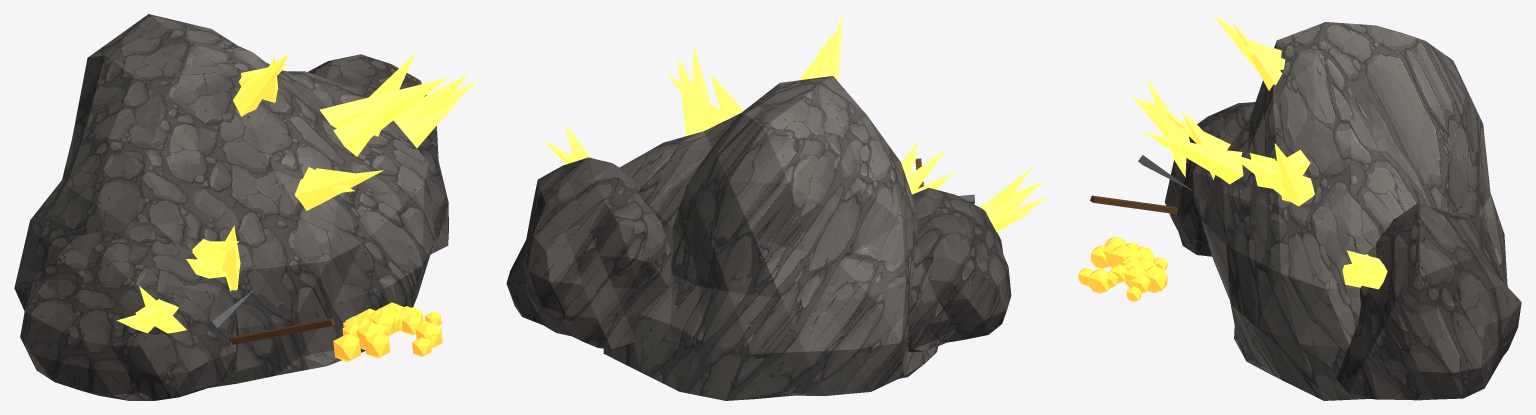
The model's file is resource_gold_vein.glb.
The picture shows the model from 3 angles, left to right: view 1: azimuth 30°, elevation 25°; view 2: azimuth 150°, elevation 25°; view 3: azimuth 270°, elevation 25°; orthographic projection. The views are drawn at different scales.
Parts seen in each view (by area): view 1: Rock, Rock.002, GoldVeins, Rock.001, OrePile, PickHandle; view 2: Rock, Rock.001, Rock.002, GoldVeins; view 3: Rock, Rock.001, GoldVeins, Rock.002, OrePile, PickHandle.
Part boxes in pixels (x1,y1,x2,y2): Rock: [14, 14, 434, 387]; Rock.002: [20, 222, 238, 400]; GoldVeins: [116, 52, 476, 333]; Rock.001: [307, 54, 448, 254]; OrePile: [333, 302, 442, 362]; PickHandle: [230, 318, 335, 344]; Rock: [603, 76, 938, 400]; Rock.001: [506, 157, 671, 349]; Rock.002: [908, 188, 1011, 352]; GoldVeins: [544, 15, 1048, 232]; Rock: [1201, 22, 1507, 400]; Rock.001: [1336, 201, 1521, 400]; GoldVeins: [1130, 14, 1387, 289]; Rock.002: [1165, 102, 1255, 256]; OrePile: [1078, 236, 1167, 301]; PickHandle: [1090, 195, 1178, 214].
Size of the model in its own units: 4.55 by 2.93 by 3.88.
Materials: 6 (2 with a texture image).
